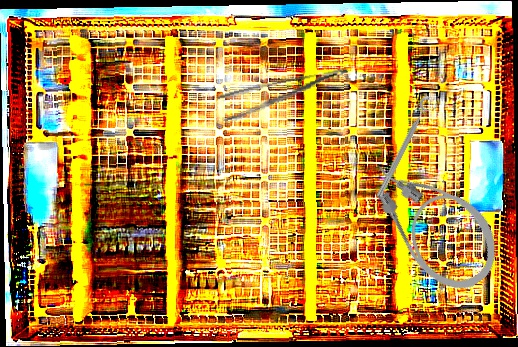Cannula: (357, 135, 514, 305)
Dressing Forceps: (216, 65, 354, 124)
Fixation Ring: (372, 93, 441, 203)
